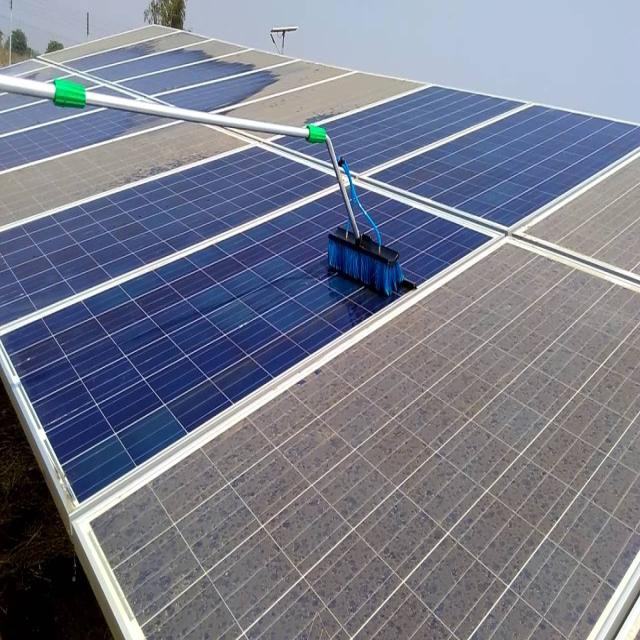clean-solar-panel: (0, 87, 638, 516), (0, 37, 273, 181)
